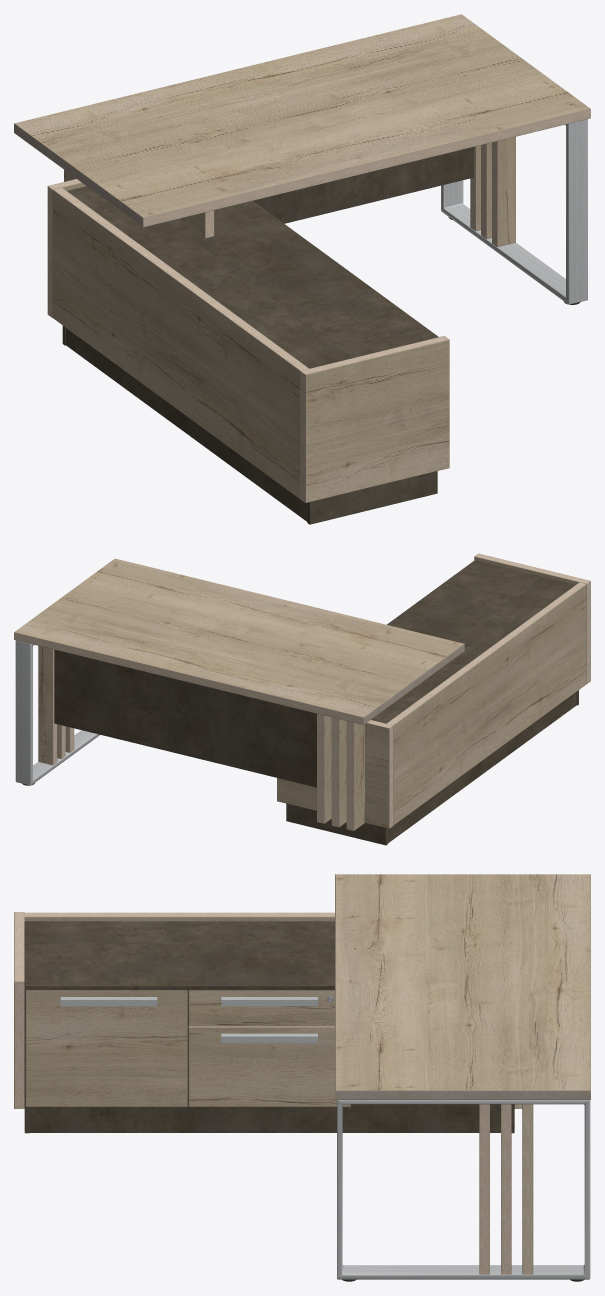
The picture shows the model from 3 angles, top to bottom: view 1: azimuth 30°, elevation 25°; view 2: azimuth 150°, elevation 25°; view 3: azimuth 270°, elevation 25°; orthographic projection. The views are drawn at different scales.
Visible parts, largest first — view 1: Box1578995191, Line1789532229, Line1789532232, Line1789532227, Plane1022, Box1578995190, Line1789532218, Line1789532213, Line1789532214, Line1789532228; view 2: Box1578995191, Line1789532229, Box1578995190, Line1789532232, Line1789532230, Line1789532228, Plane1022, Line1789532218, Line1789532213, Line1789532215, Line1789532227; view 3: Box1578995191, Line1789532232, Line1789532223, Line1789532217, Line1789532225, Plane1022, Line1789532213, Line1789532224, Line1789532229, Line1789532227, Plane1021, Plane1019 (+1 smaller).
Part boxes in pixels (x1,y1,x2,y2): Box1578995191: (14,14,590,227); Line1789532229: (53,188,309,498); Line1789532232: (67,186,438,368); Line1789532227: (300,336,449,503); Plane1022: (441,119,587,304); Box1578995190: (253,147,473,223); Line1789532218: (66,328,307,521); Line1789532213: (470,136,515,246); Line1789532214: (307,471,437,524); Line1789532228: (47,179,86,317); Box1578995191: (14,558,464,724); Line1789532229: (387,582,586,825); Box1578995190: (54,649,316,787); Line1789532232: (371,560,575,723); Line1789532230: (317,714,364,830); Line1789532228: (277,720,393,828); Plane1022: (15,640,100,785); Line1789532218: (388,692,576,843); Line1789532213: (38,646,74,765); Line1789532215: (286,803,387,845); Line1789532227: (474,553,590,683); Box1578995191: (335,874,590,1099); Line1789532232: (24,921,334,990); Line1789532223: (25,990,187,1106); Line1789532217: (30,1105,500,1132); Line1789532225: (188,1026,350,1106); Plane1022: (337,1100,590,1279); Line1789532213: (479,1104,533,1274); Line1789532224: (188,990,334,1026); Line1789532229: (24,912,334,921); Line1789532227: (14,912,24,1108); Plane1021: (221,1033,317,1043); Plane1019: (60,997,157,1006).
Bounding box in the file's own units: 1.8 × 0.75 × 2.03.
Materials: 8 (6 with a texture image).
